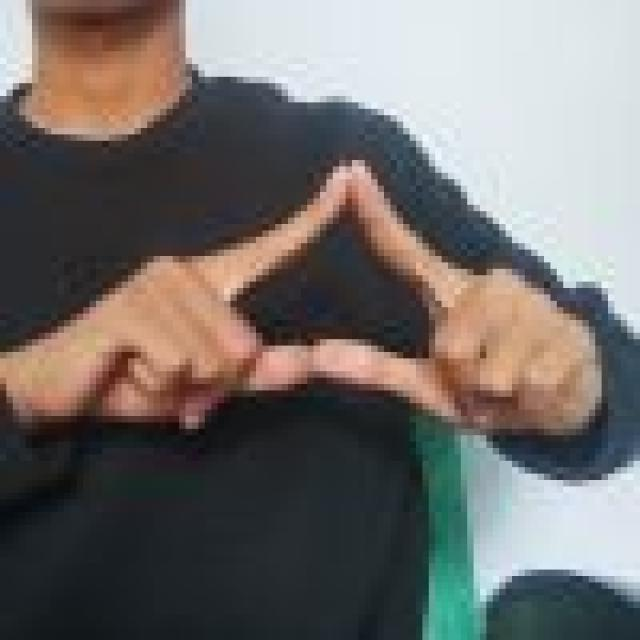A: (0, 159, 601, 433)
